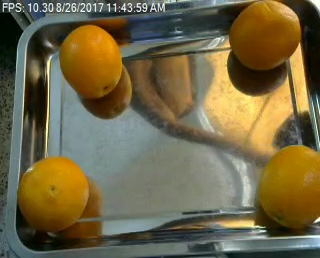Orange: (18, 155, 87, 233), (258, 143, 319, 227), (227, 1, 300, 70), (60, 24, 123, 99)
